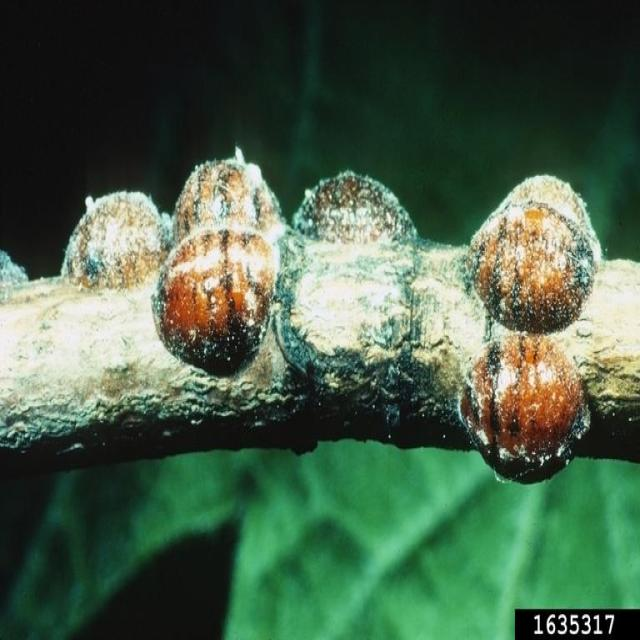Black Scale: (467, 176, 600, 332), (152, 226, 278, 375), (461, 335, 586, 464), (61, 192, 172, 287), (175, 148, 284, 241), (292, 170, 418, 241)
